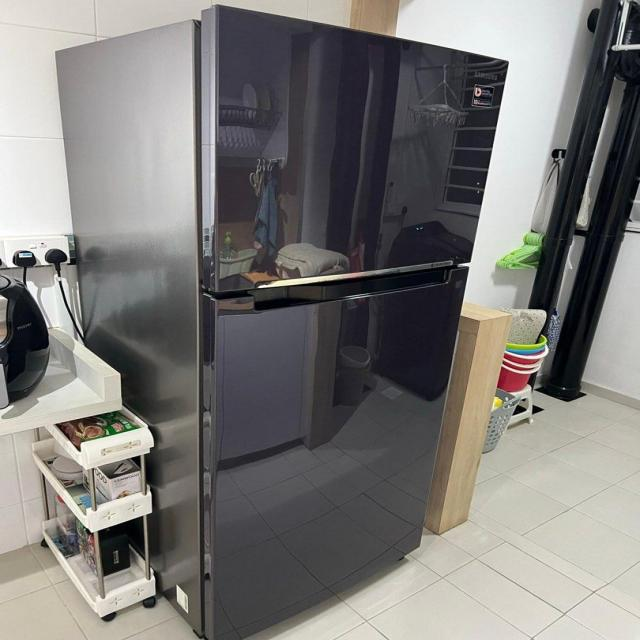refrigerator: (193, 8, 513, 634), (195, 6, 509, 637), (215, 6, 511, 640)
